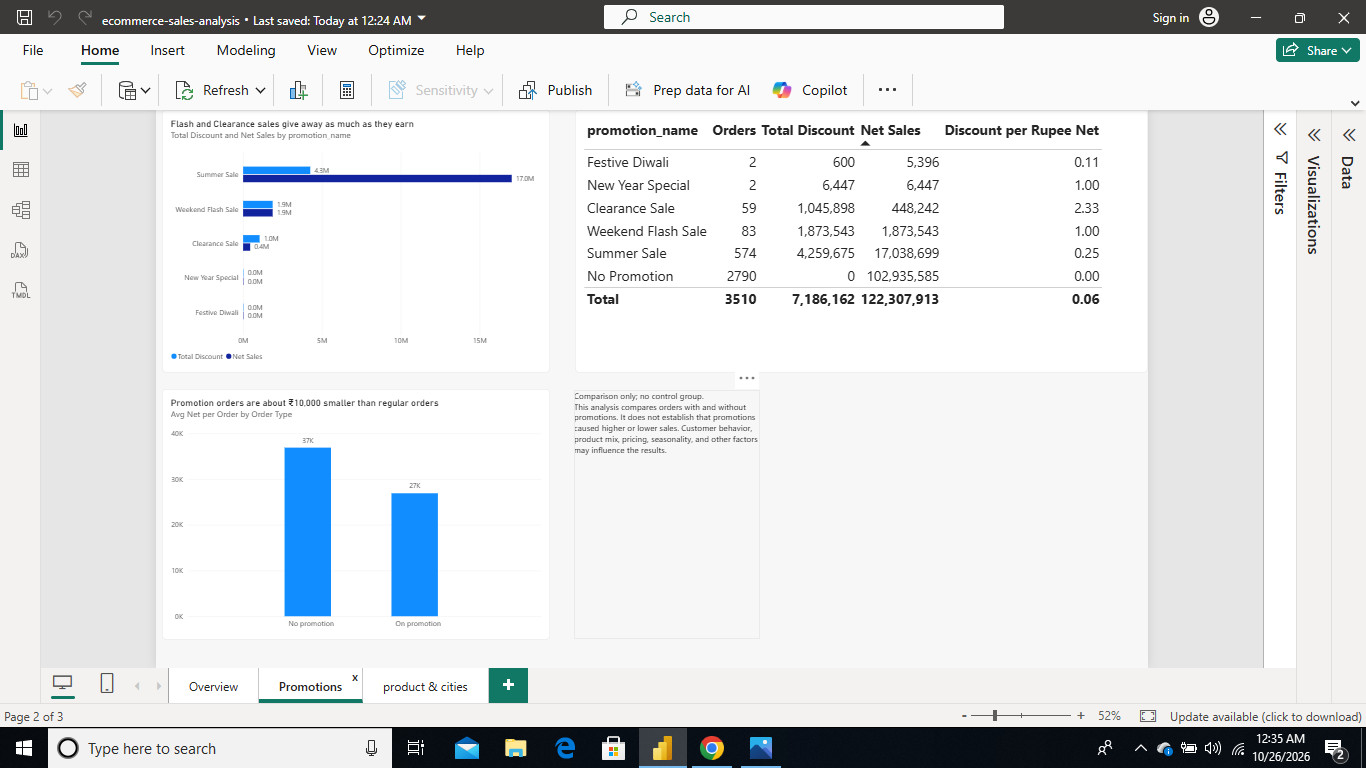

The dashboard page shown, as its layout file describes it:
{"tool":"powerbi","page":{"name":"Promotions","canvas":[1920,1080],"ordinal":1},"visuals":[{"type":"clusteredBarChart","title":"Flash and Clearance sales give away as much as they earn","fields":{"Category":["dim_promotions.promotion_name"],"Y":["_Measures.Total Discount","_Measures.Net Sales"]},"box":[10.7,0,750.8,508.4],"z":0},{"type":"tableEx","fields":{"Values":["dim_promotions.promotion_name","_Measures.Orders","_Measures.Total Discount","_Measures.Net Sales","_Measures.Discount per Rupee Net"]},"box":[810.9,0,1109.1,508.4],"z":1000},{"type":"clusteredColumnChart","title":"Promotion orders are about ₹10,000 smaller than regular orders","fields":{"Category":["fact_sales.Order Type"],"Y":["_Measures.Avg Net per Order"]},"box":[10.7,540.6,750.8,484.8],"z":2000},{"type":"textbox","box":[809.6,542,360.2,482.5],"z":3000}]}

Visuals, with their boxes on the page's 1920x1080 design canvas (x1, y1, x2, y2). These are canvas units, not pixel positions in the 1366x768 screenshot, which may show the page scaled, cropped or inside an application window:
"Flash and Clearance sales give away as much as they earn" clusteredBarChart: [left=11, top=0, right=762, bottom=508]
tableEx - dim_promotions.promotion_name x _Measures.Orders: [left=811, top=0, right=1920, bottom=508]
"Promotion orders are about ₹10,000 smaller than regular orders" clusteredColumnChart: [left=11, top=541, right=762, bottom=1025]
textbox: [left=810, top=542, right=1170, bottom=1024]
